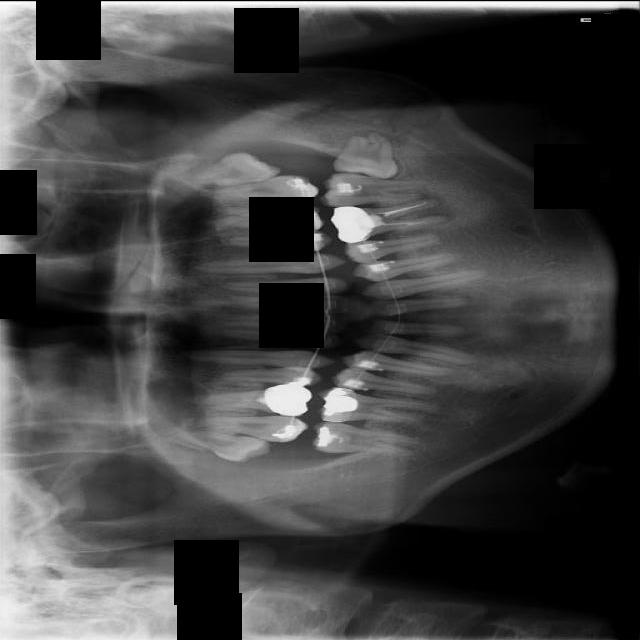3M ESPE Implant: (169, 424, 273, 466)
52: (260, 379, 314, 418), (276, 197, 325, 236), (328, 205, 379, 242), (317, 387, 368, 421), (266, 366, 322, 385)
73: (365, 196, 450, 235), (189, 387, 275, 412), (612, 10, 622, 20)
BioHorizons Implant: (197, 171, 320, 205)
BioLife Implant: (179, 145, 283, 194)
Biomet 3i Implant: (331, 125, 404, 182)
Blue Sky Bio Implant: (318, 169, 430, 206)
Caries: (179, 410, 309, 443)
Implant: (311, 420, 425, 457)
